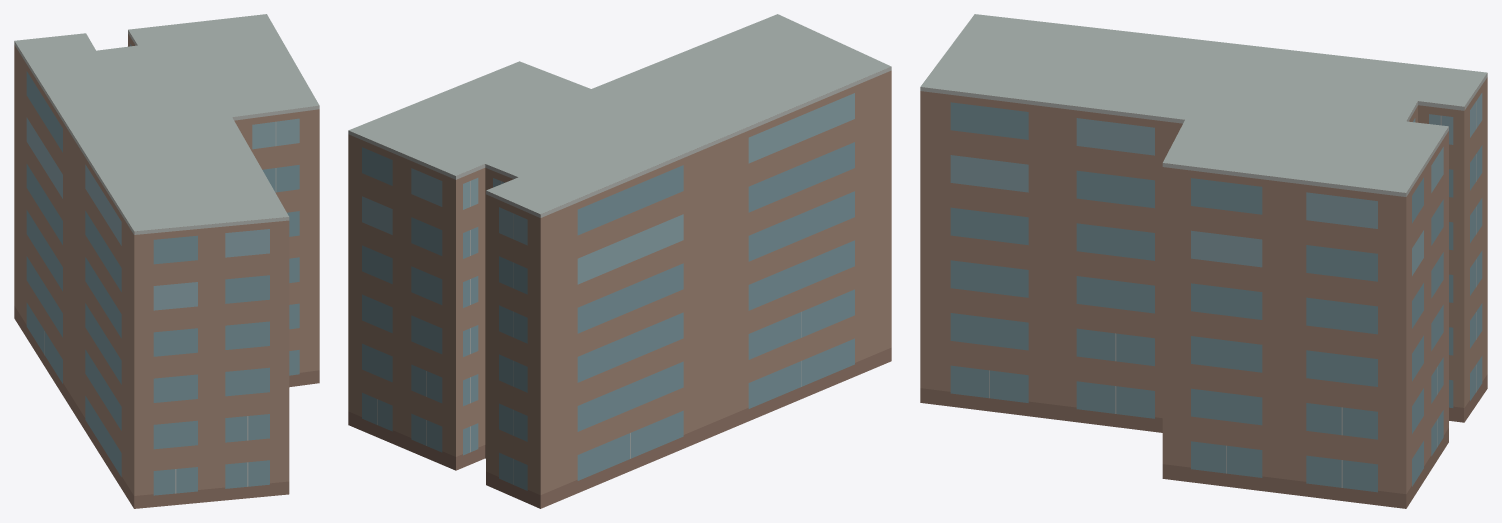
File: survey-upis-32856419.glb
3 views of the same model, side by side, from view 1: azimuth 30°, elevation 25°; view 2: azimuth 150°, elevation 25°; view 3: azimuth 270°, elevation 25° (orthographic). The views are drawn at different scales.
Visible parts, largest first — view 1: survey-upis-32856419.tmp; view 2: survey-upis-32856419.tmp; view 3: survey-upis-32856419.tmp.
Part boxes in pixels (<box>): survey-upis-32856419.tmp: <box>14,14,319,508</box>; survey-upis-32856419.tmp: <box>348,14,891,508</box>; survey-upis-32856419.tmp: <box>920,14,1487,508</box>.
Bounding box in the file's own units: 22.69 × 18.66 × 30.38.
